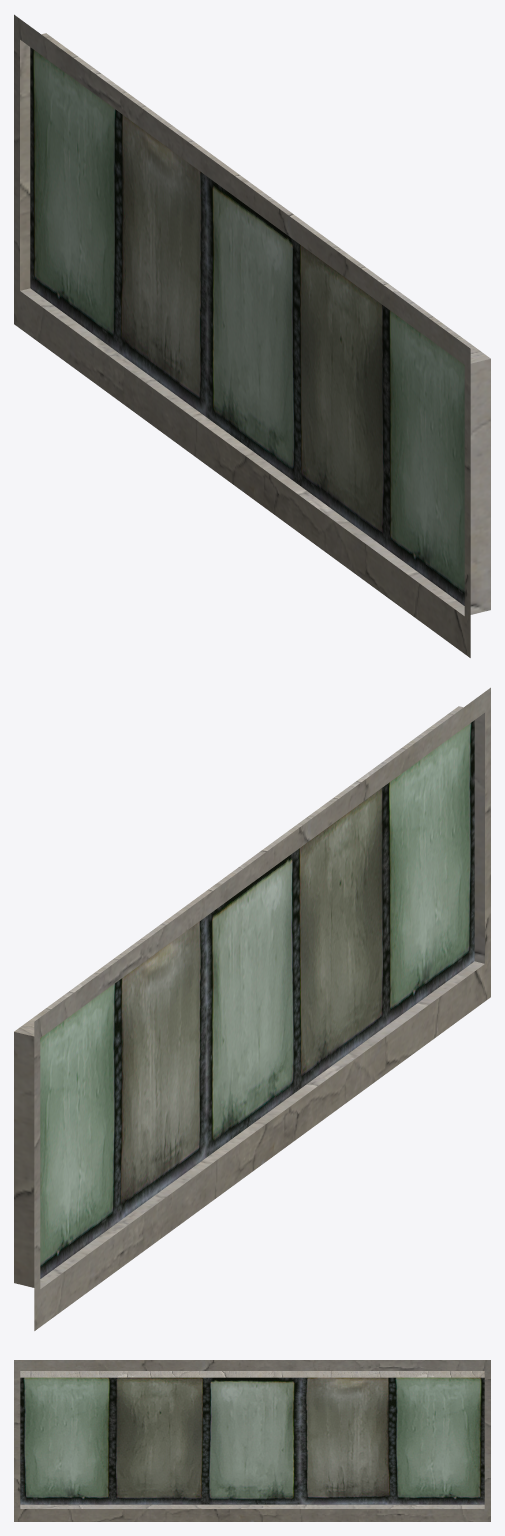
The model's file is Window_Small.fbx.
The picture shows the model from 3 angles, top to bottom: view 1: azimuth 30°, elevation 25°; view 2: azimuth 150°, elevation 25°; view 3: azimuth 270°, elevation 25°; orthographic projection. The views are drawn at different scales.
Visible parts, largest first — view 1: Window_Small; view 2: Window_Small; view 3: Window_Small.
Part boxes in pixels (x1,y1,x2,y2): Window_Small: (14,14,490,657); Window_Small: (14,687,490,1330); Window_Small: (14,1360,490,1521).
Size of the model in its own units: 0.0406 by 0.4583 by 1.23.
